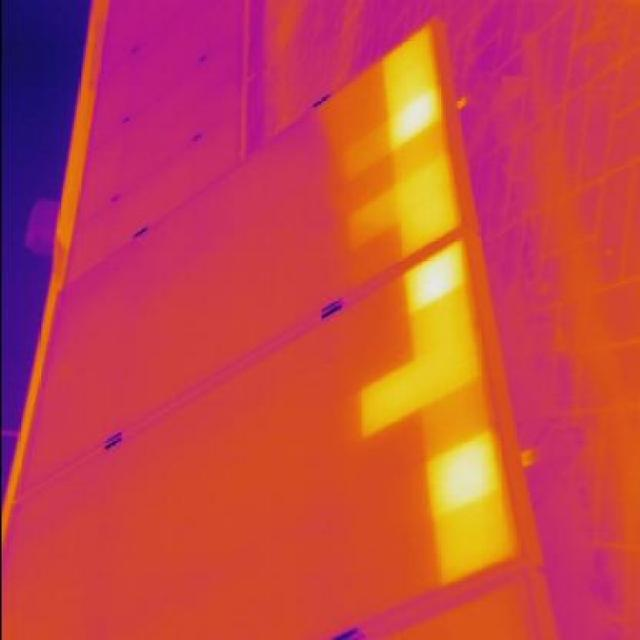hotspot: (384, 29, 436, 142), (424, 440, 496, 520), (404, 308, 476, 388), (355, 364, 413, 436), (403, 244, 462, 313), (394, 183, 454, 249)
